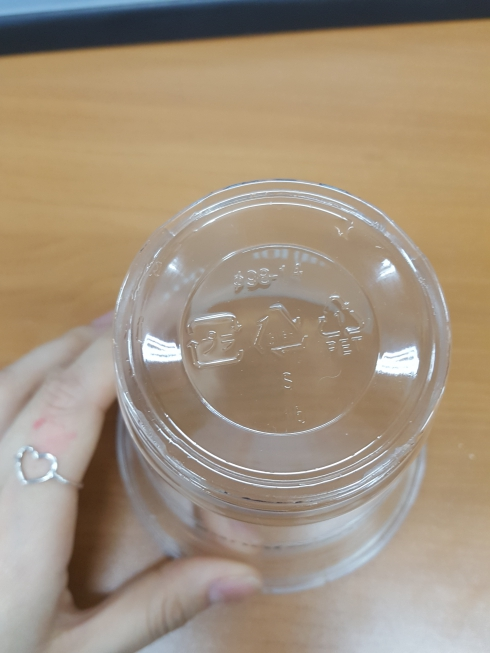recycle: (311, 296, 374, 355)
